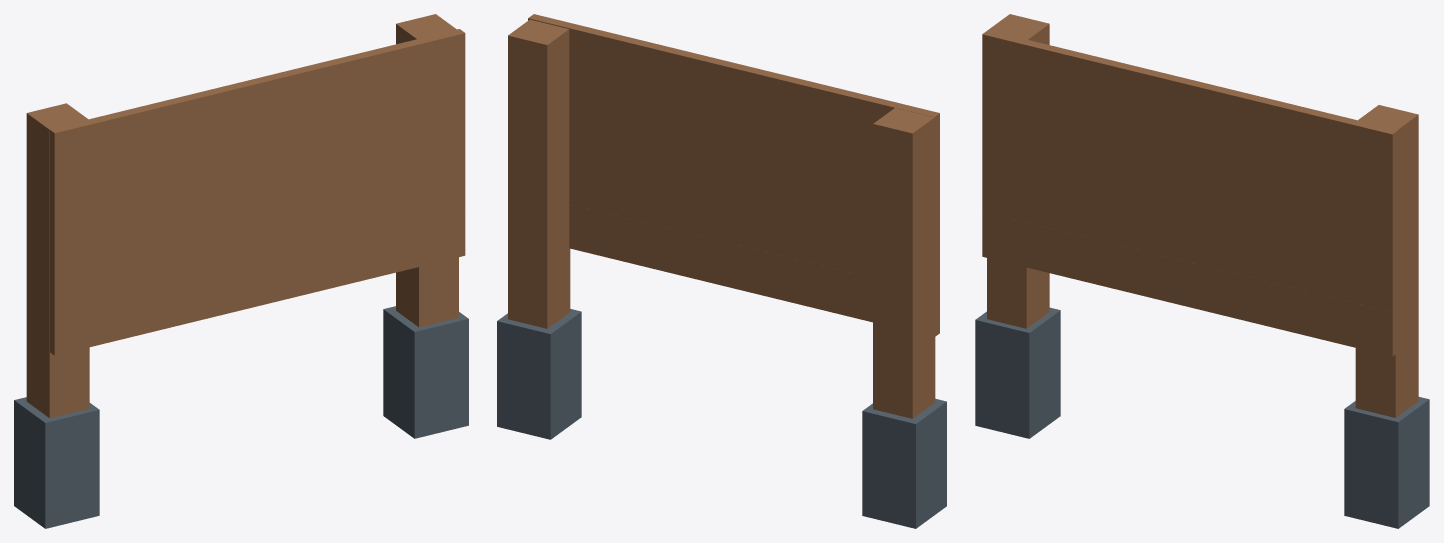
Rendered from LeggedSign.glb.
The picture shows the model from 3 angles, left to right: view 1: azimuth 30°, elevation 25°; view 2: azimuth 150°, elevation 25°; view 3: azimuth 330°, elevation 25°; orthographic projection.
Visible parts, largest first — view 1: Sign.012, Sign.016, Sign.014, Sign.015, Sign.013, Sign.004, RightCorner.005, RightCorner.003, Sign.002; view 2: Sign.004, Sign.002, Sign.012, Sign.016, Sign.014, Sign.013, Sign.015, RightCorner.005, RightCorner.003; view 3: Sign.012, Sign.016, Sign.014, Sign.015, Sign.013, RightCorner.005, RightCorner.003, Sign.002, Sign.004.
Boxes of the visible parts, <box> form: Sign.012: <box>49,29,465,177</box>; Sign.016: <box>50,211,465,355</box>; Sign.014: <box>50,122,465,266</box>; Sign.015: <box>50,166,465,310</box>; Sign.013: <box>50,78,465,221</box>; Sign.004: <box>26,103,89,418</box>; RightCorner.005: <box>383,306,468,438</box>; RightCorner.003: <box>14,397,99,528</box>; Sign.002: <box>396,14,458,327</box>; Sign.004: <box>873,108,935,418</box>; Sign.002: <box>508,19,570,328</box>; Sign.012: <box>528,14,939,160</box>; Sign.016: <box>569,204,939,336</box>; Sign.014: <box>569,116,939,247</box>; Sign.013: <box>569,72,939,203</box>; Sign.015: <box>569,160,939,291</box>; RightCorner.005: <box>497,309,581,439</box>; RightCorner.003: <box>862,398,946,528</box>; Sign.012: <box>982,30,1398,178</box>; Sign.016: <box>982,212,1398,356</box>; Sign.014: <box>982,123,1398,267</box>; Sign.015: <box>982,167,1398,311</box>; Sign.013: <box>982,79,1398,222</box>; RightCorner.005: <box>1344,397,1429,528</box>; RightCorner.003: <box>975,307,1060,438</box>; Sign.002: <box>1355,105,1418,417</box>; Sign.004: <box>987,14,1049,328</box>.
Size of what is drawn, in the model's own units: 3.42 by 3.04 by 0.4549.
